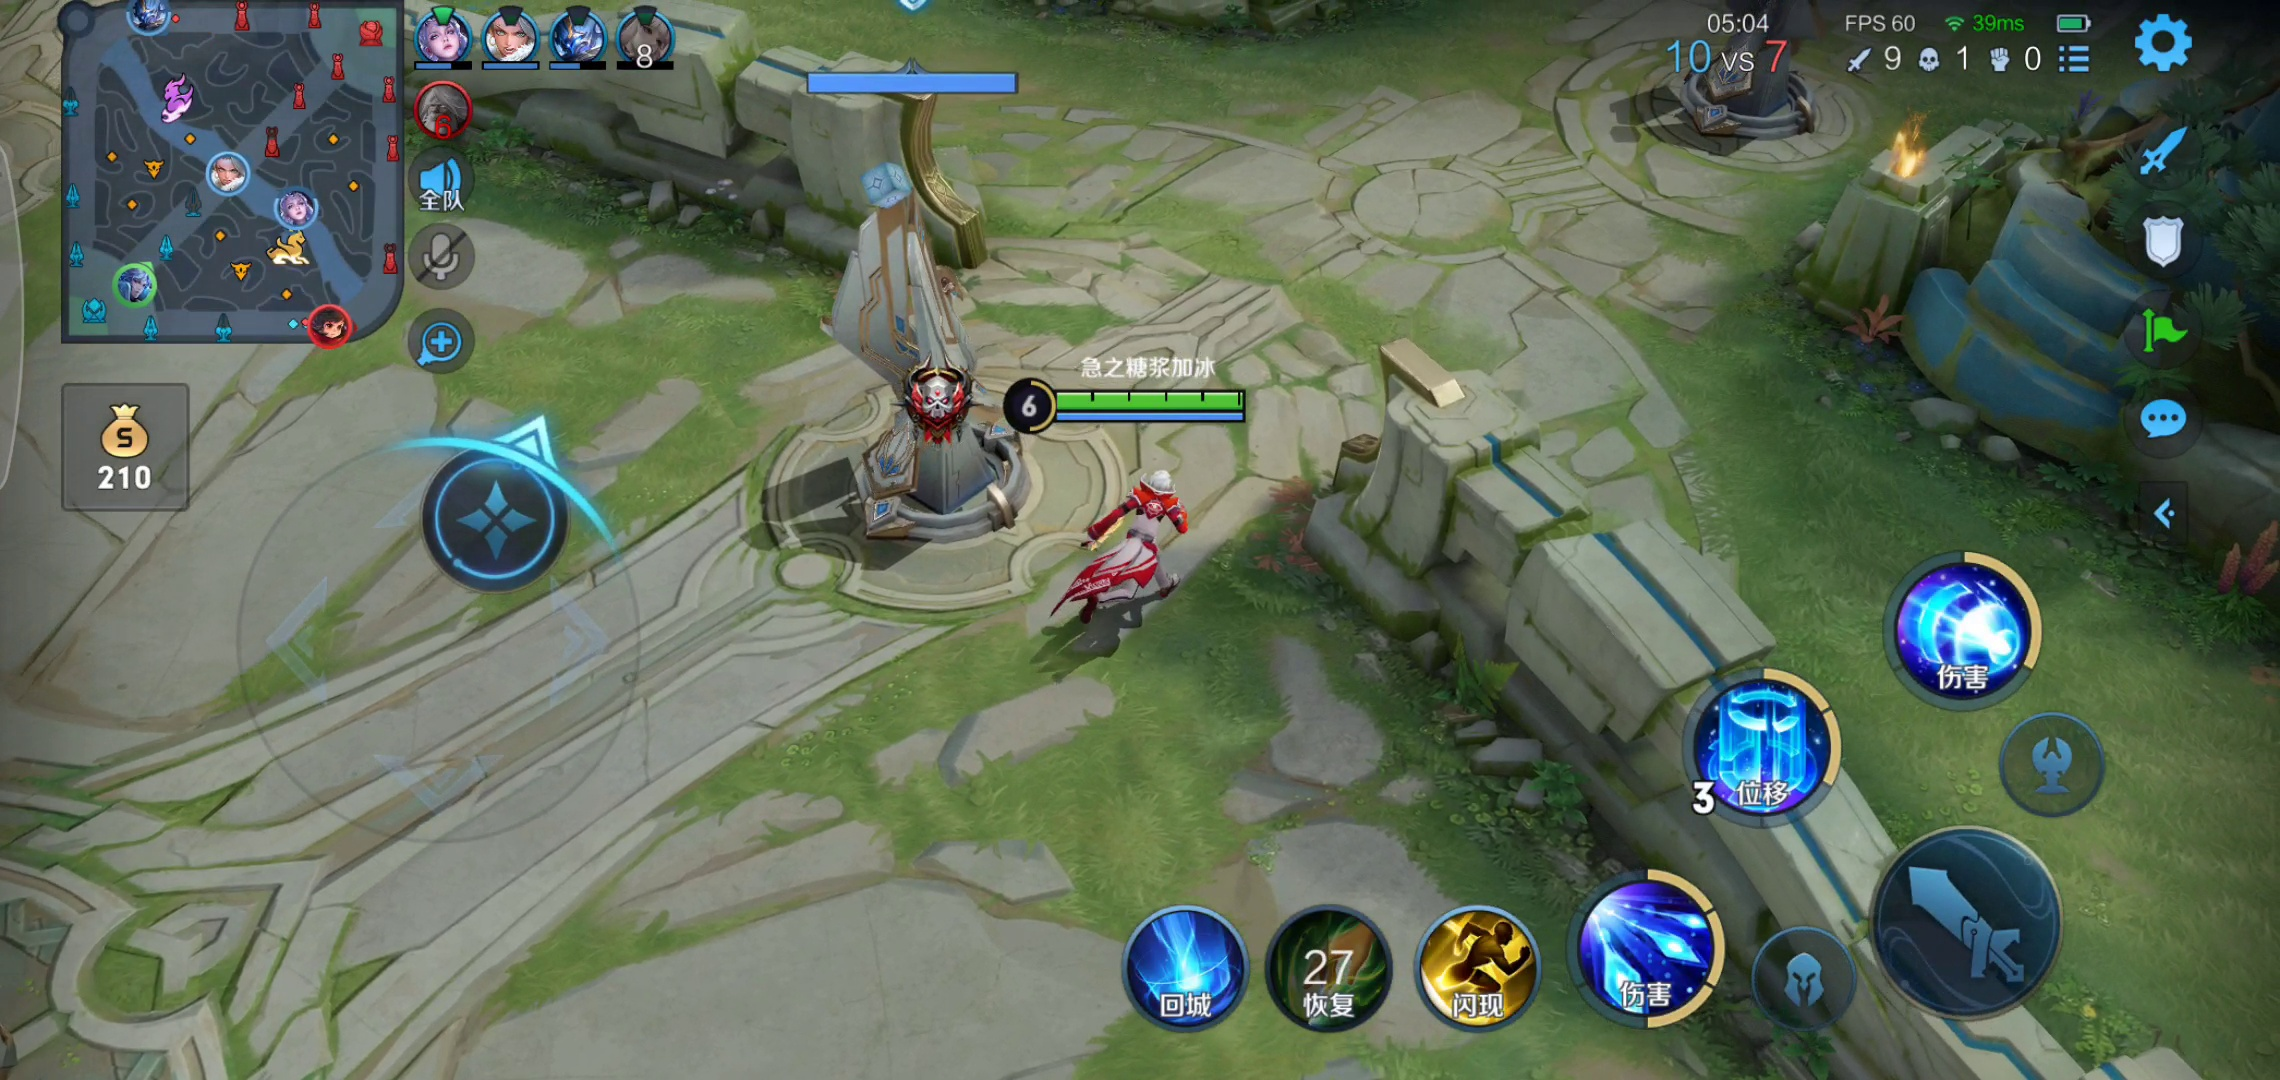hero: (1059, 470, 1245, 642)
tower: (774, 177, 1034, 552), (1666, 1, 1847, 142)
